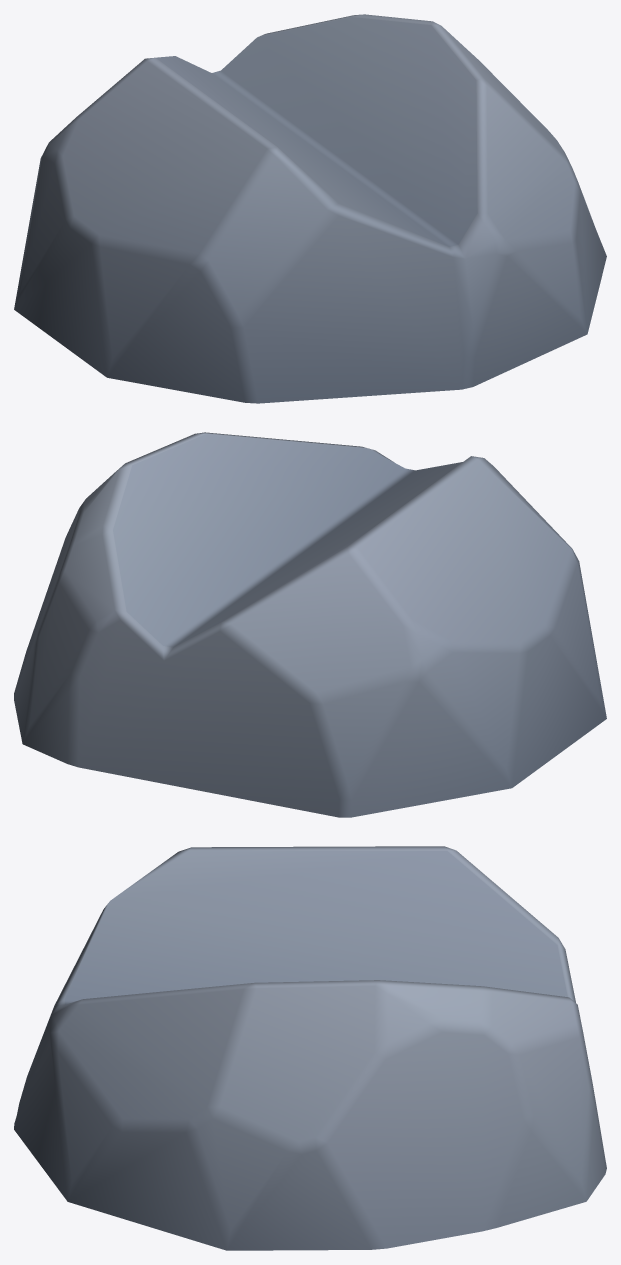
The model's file is Stone_04_lvl.fbx.
3 renders of one model, top to bottom at view 1: azimuth 30°, elevation 25°; view 2: azimuth 150°, elevation 25°; view 3: azimuth 270°, elevation 25°, orthographic. The views are drawn at different scales.
Parts seen in each view (by area): view 1: Icosphere.017; view 2: Icosphere.017; view 3: Icosphere.017.
Part boxes in pixels (left/top/right/bottom): Icosphere.017: left=14, top=14, right=606, bottom=403; Icosphere.017: left=14, top=432, right=606, bottom=817; Icosphere.017: left=14, top=846, right=606, bottom=1250.
Bounding box in the file's own units: 126 × 50.2 × 123.
